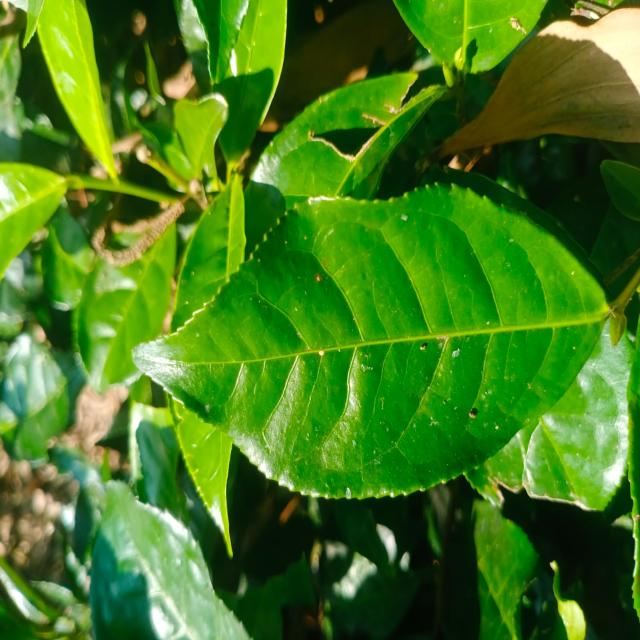Category D(7+ days, Not for Tea): (110, 171, 614, 561)
